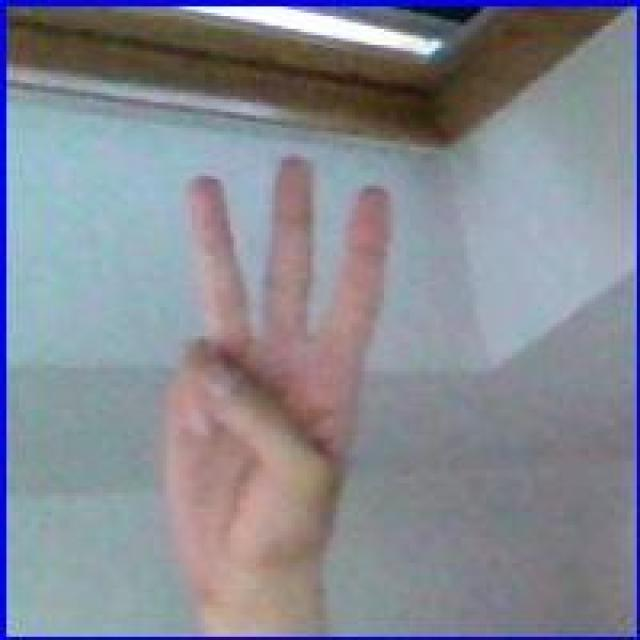W: (152, 152, 398, 584)
